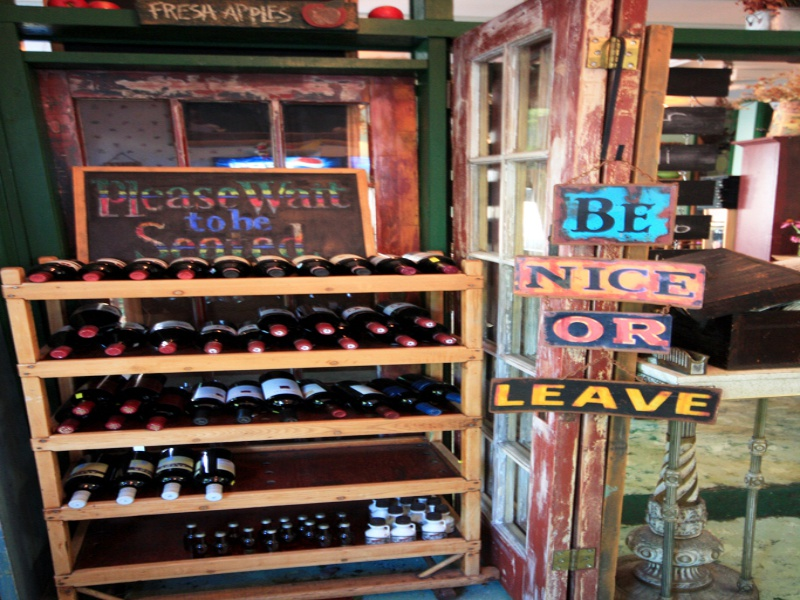wine: (3, 245, 484, 589)
